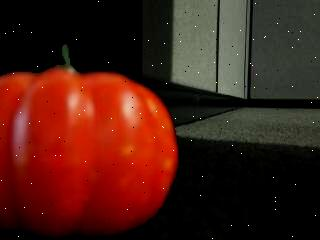Pumpkin: (0, 41, 179, 237)
